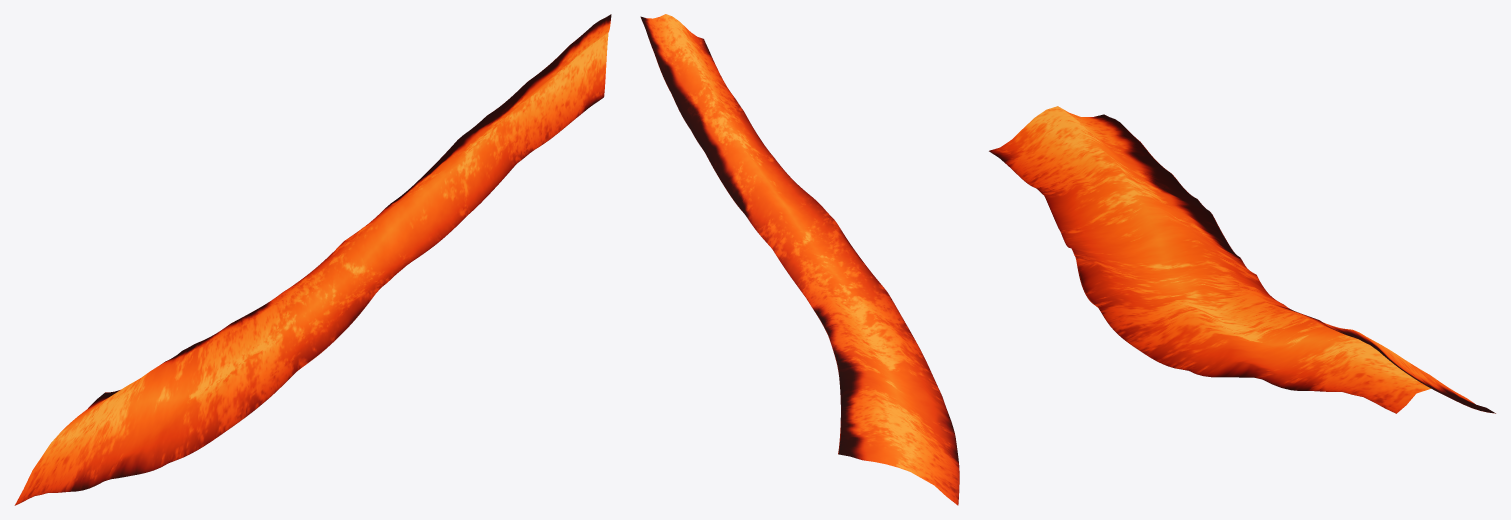
File: flow_0_3.glb
The picture shows the model from 3 angles, left to right: view 1: azimuth 30°, elevation 25°; view 2: azimuth 150°, elevation 25°; view 3: azimuth 270°, elevation 25°; orthographic projection. The views are drawn at different scales.
Size of the model in its own units: 21.03 by 17.5 by 11.83.
